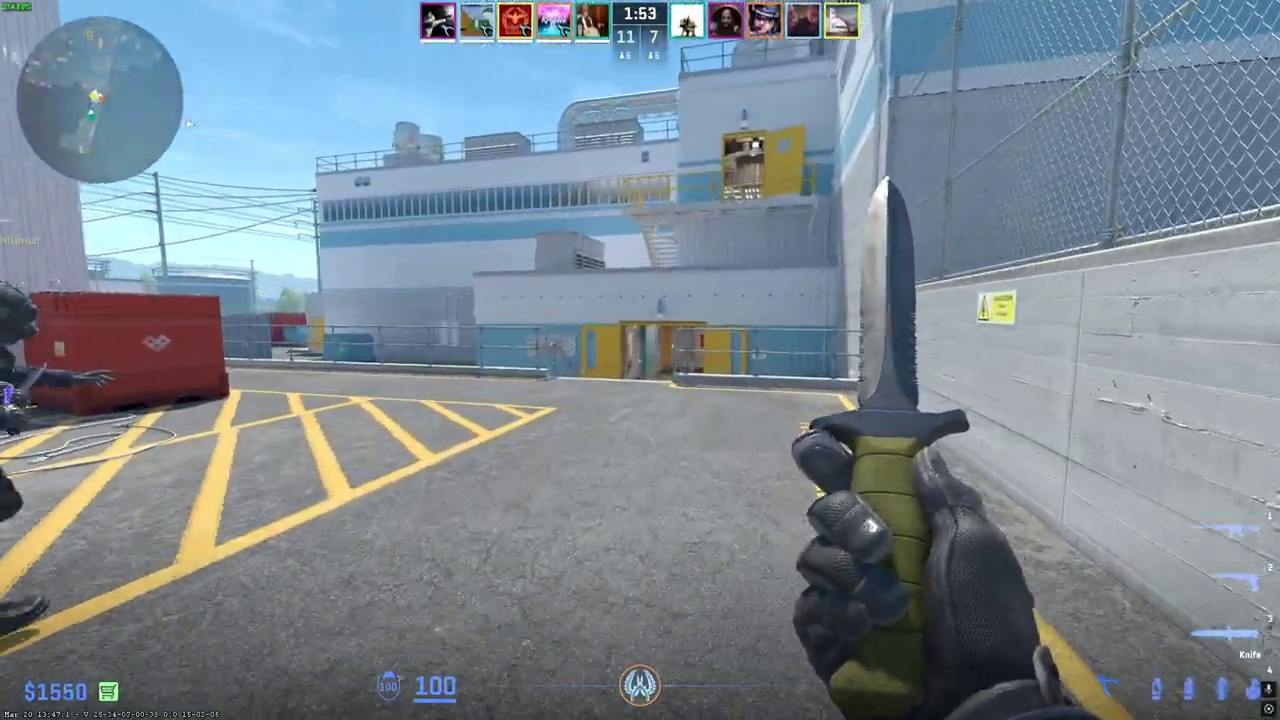CT: (0, 280, 47, 639)
